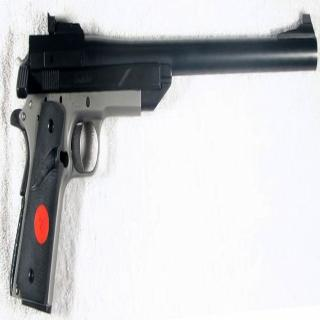gun: (7, 0, 320, 294)
